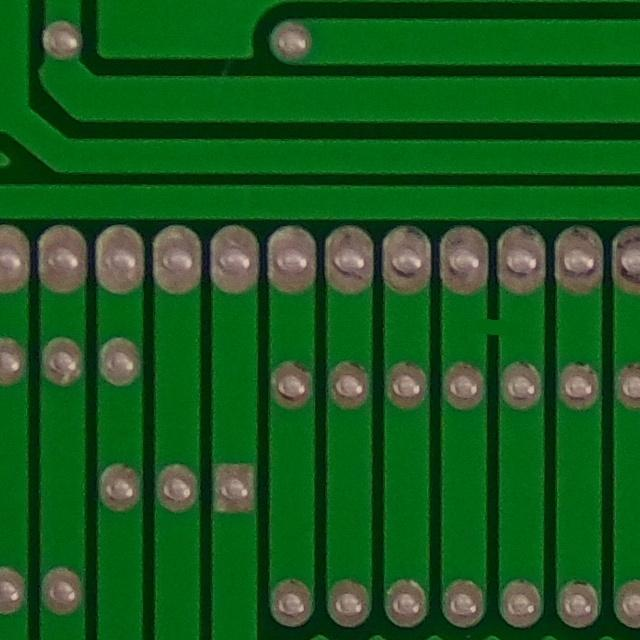short: (453, 291, 542, 375)
